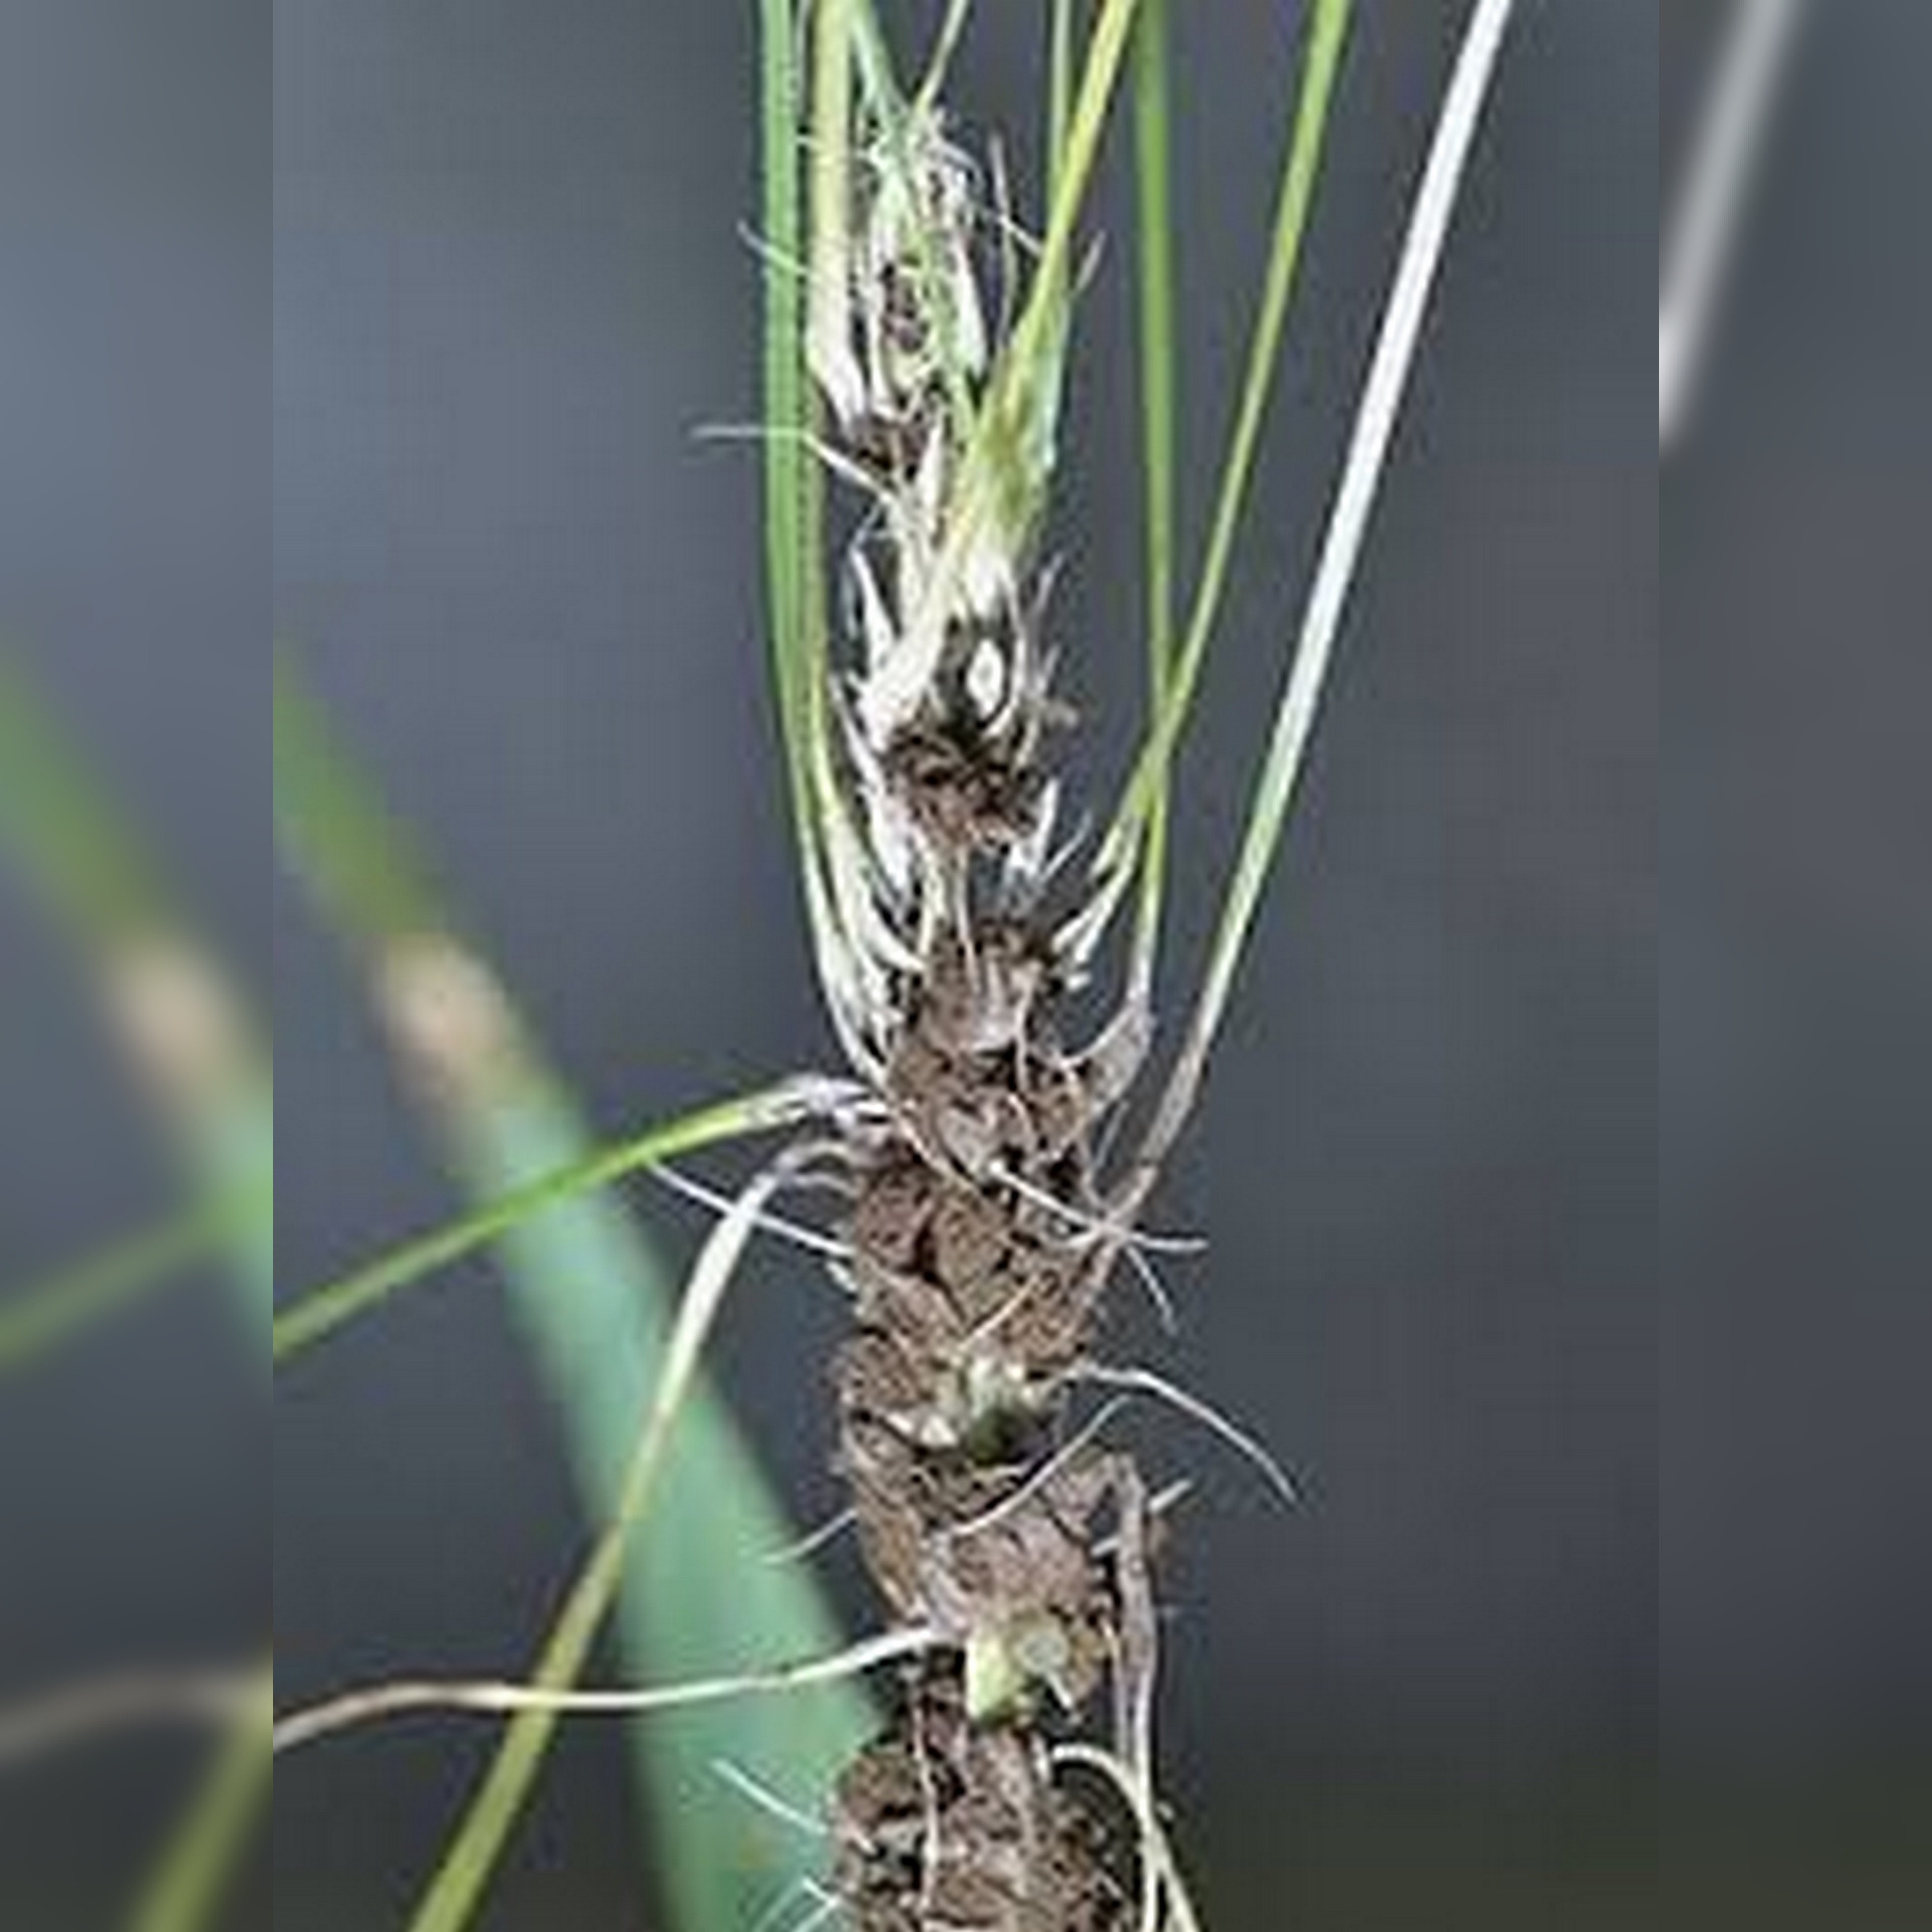Wheat Loose Smut: (711, 219, 1185, 1904)
